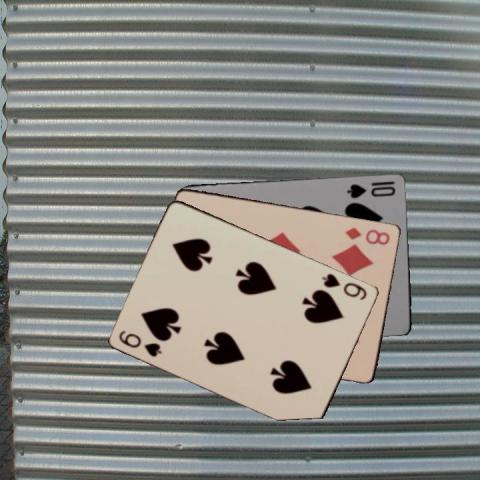10s: (345, 181, 397, 199)
6s: (318, 270, 368, 302), (116, 327, 164, 359)
8d: (342, 223, 391, 247)
